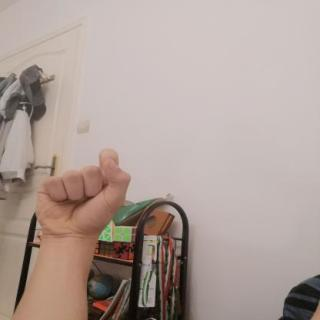FAA: (25, 142, 140, 245)
